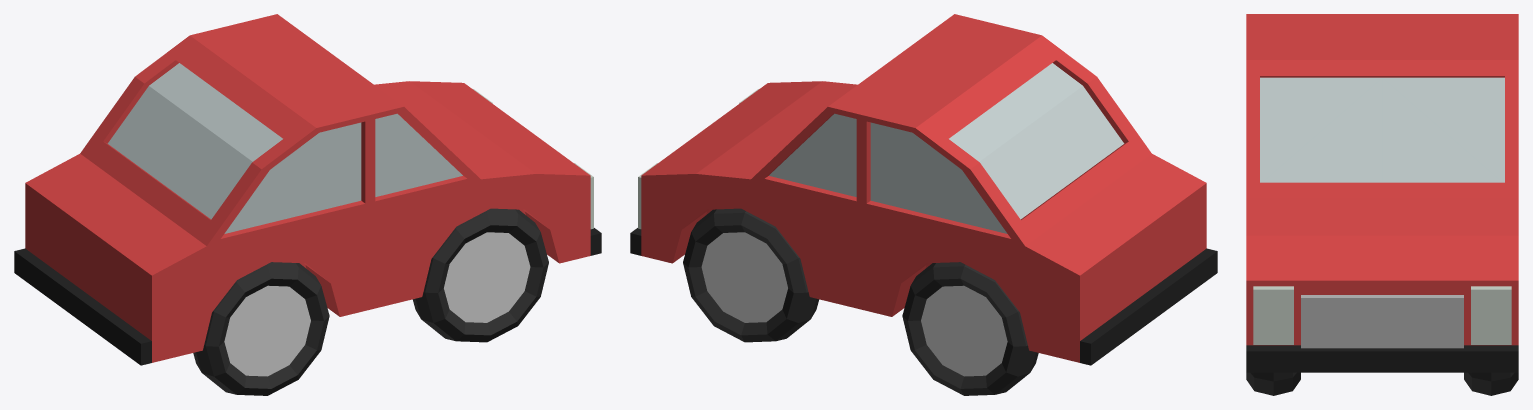
The model's file is stationaryCar.fbx.
3 views of the same model, side by side, from view 1: azimuth 30°, elevation 25°; view 2: azimuth 150°, elevation 25°; view 3: azimuth 270°, elevation 25° (orthographic). The views are drawn at different scales.
Visible parts, largest first — view 1: Torus.000; view 2: Torus.000; view 3: Torus.000.
Part boxes in pixels (x1,y1,x2,y2): Torus.000: (14, 14, 601, 395); Torus.000: (630, 14, 1217, 395); Torus.000: (1246, 14, 1518, 395).
Bounding box in the file's own units: 420 × 230 × 200.
